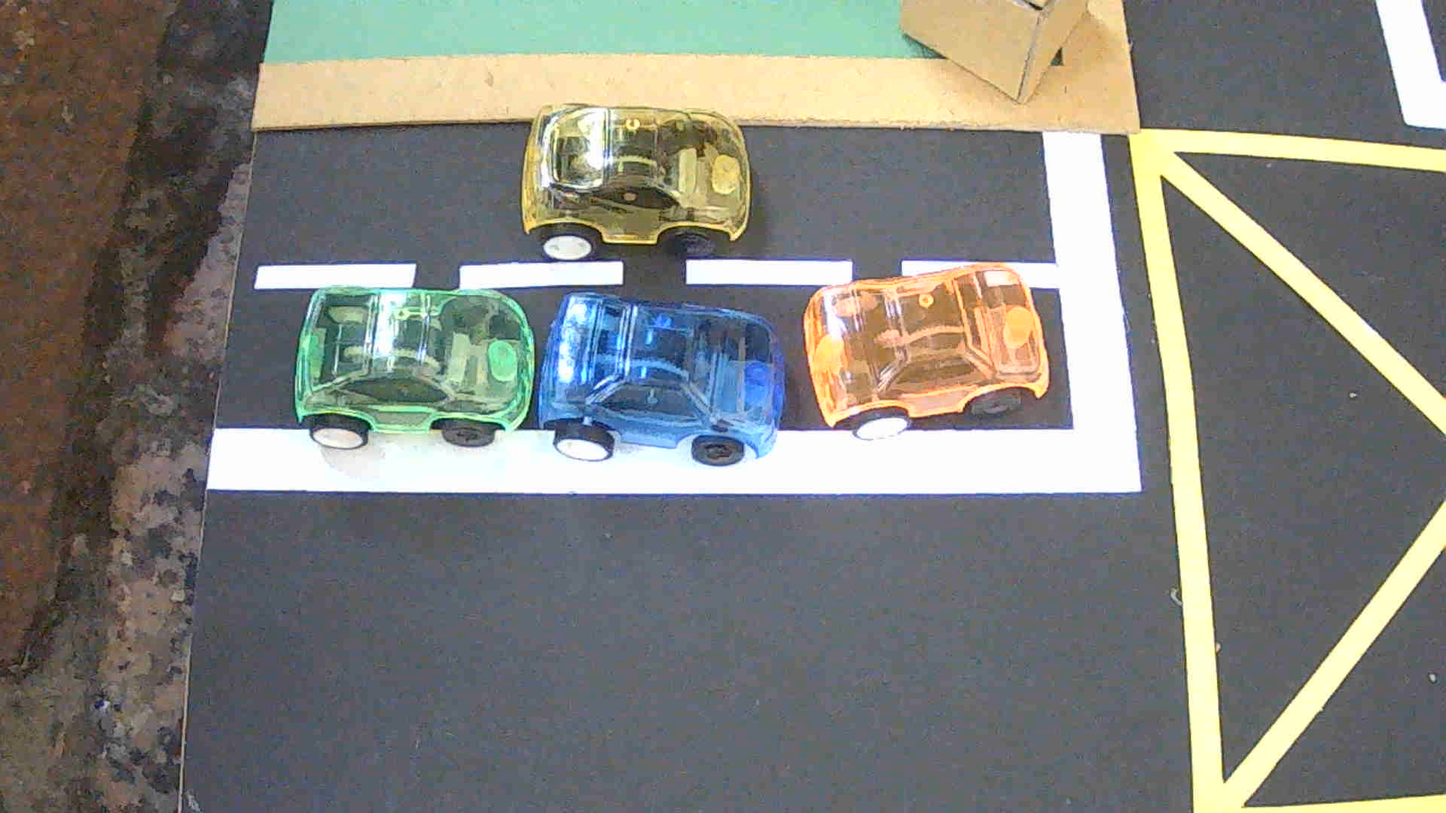Mobil biru: (538, 293, 784, 467)
Mobil hijau: (294, 286, 535, 449)
Mobil kuning: (520, 104, 751, 261)
Mobil orange: (804, 263, 1050, 440)
